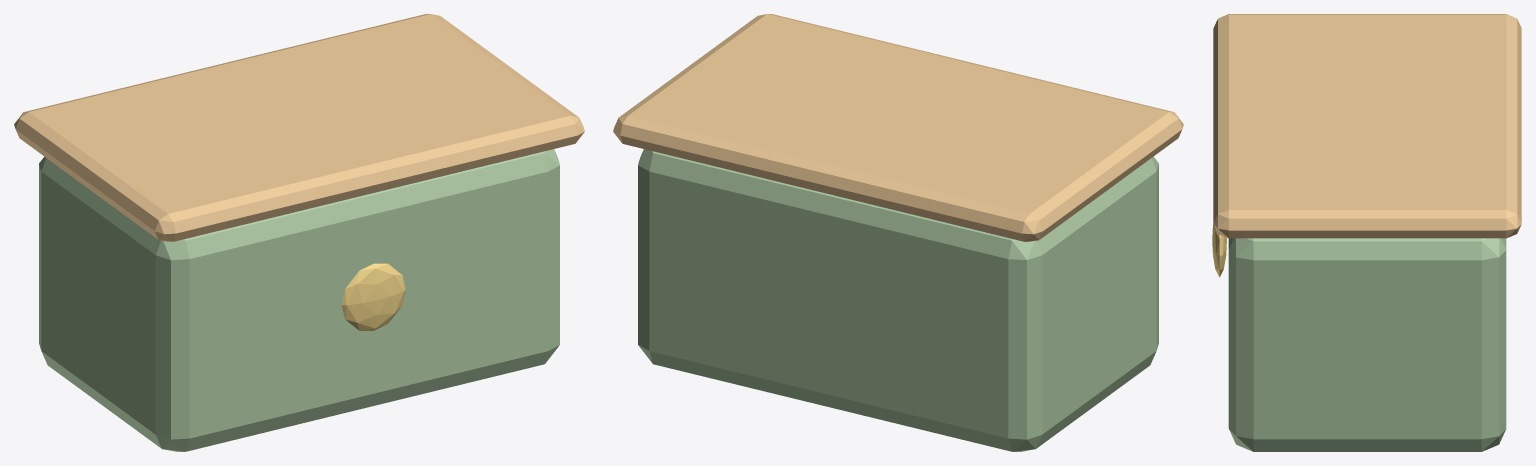
Rendered from cozy-home-interiors-toy-box-9af8db52.glb.
3 renders of one model, left to right at view 1: azimuth 30°, elevation 25°; view 2: azimuth 150°, elevation 25°; view 3: azimuth 270°, elevation 25°, orthographic.
Visible parts, largest first — view 1: toy-box; view 2: toy-box; view 3: toy-box.
Part boxes in pixels (box(x1,y1,x2,y2)): toy-box: box(14, 14, 584, 451); toy-box: box(613, 14, 1183, 451); toy-box: box(1212, 14, 1521, 451).
Size of the model in its own units: 0.8 by 0.45 by 0.502.
